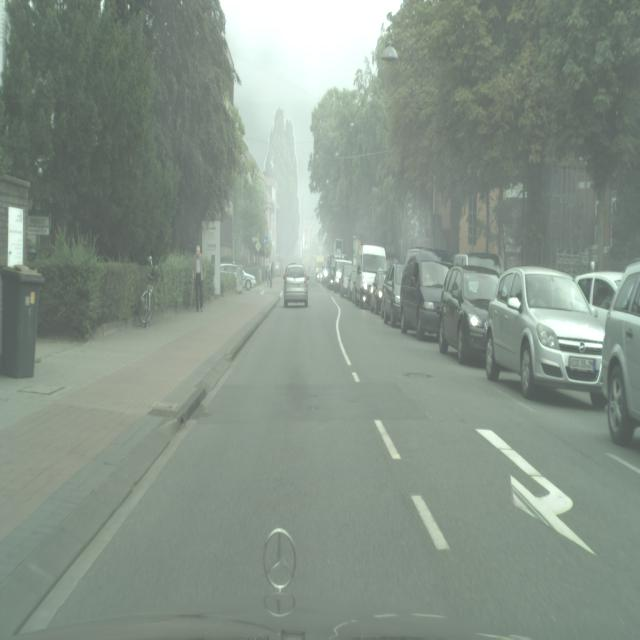car: (139, 279, 155, 328)
person: (192, 244, 206, 313)
train: (352, 242, 386, 309)
truck: (485, 266, 606, 406), (601, 261, 640, 446), (438, 256, 503, 365), (399, 249, 450, 341), (575, 271, 622, 325), (381, 262, 404, 327), (283, 262, 309, 308), (370, 266, 387, 314), (334, 260, 352, 293), (339, 262, 354, 298), (242, 269, 257, 289)
